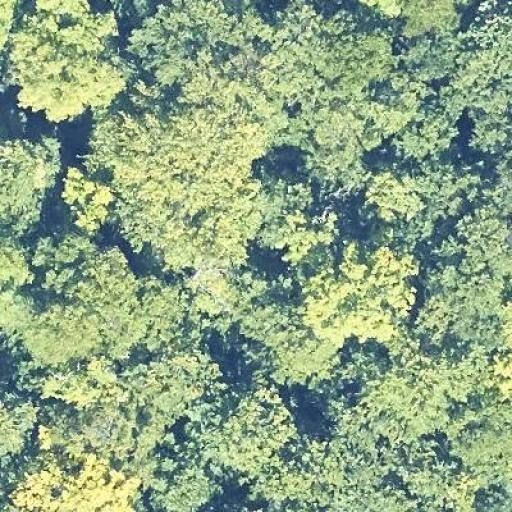tree-top: (98, 101, 274, 228), (22, 236, 143, 364), (117, 1, 266, 95), (259, 4, 390, 103), (299, 239, 418, 347), (9, 17, 127, 124), (347, 352, 465, 444), (196, 380, 296, 480), (231, 294, 331, 393), (420, 253, 512, 349), (274, 433, 394, 505), (17, 448, 148, 512), (256, 174, 334, 264), (128, 349, 215, 428), (0, 130, 67, 230), (449, 391, 512, 497), (300, 114, 376, 190), (136, 442, 218, 512), (39, 354, 129, 415), (56, 160, 122, 238), (362, 157, 434, 224), (375, 0, 476, 38), (394, 104, 458, 162), (406, 29, 466, 82), (0, 386, 39, 467), (84, 410, 134, 458)
